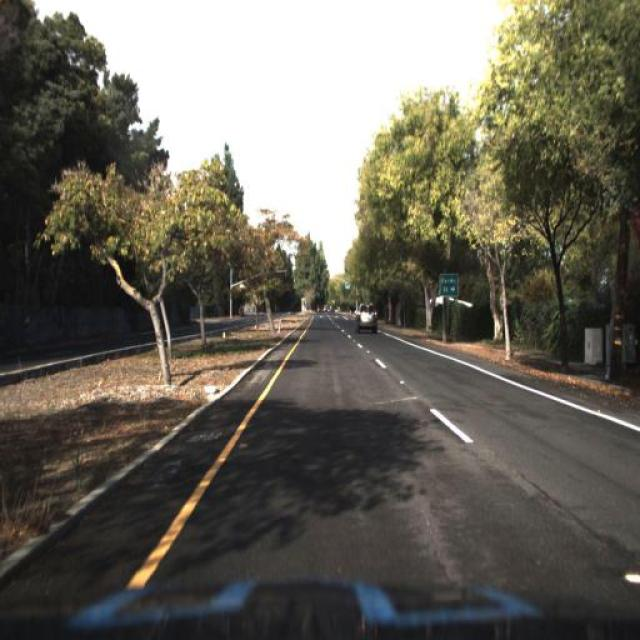car: (355, 300, 380, 336)
